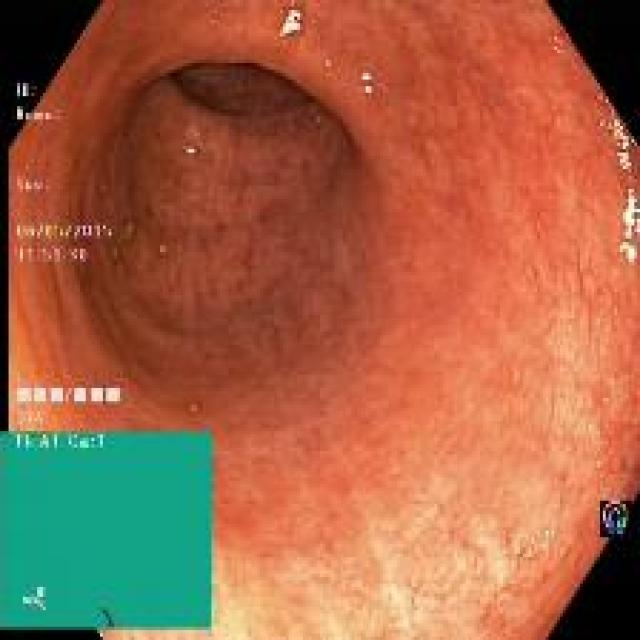ulcerative-colitis-grade-0-1: (206, 374, 617, 638), (324, 57, 613, 399), (104, 194, 344, 401), (0, 115, 120, 408)
